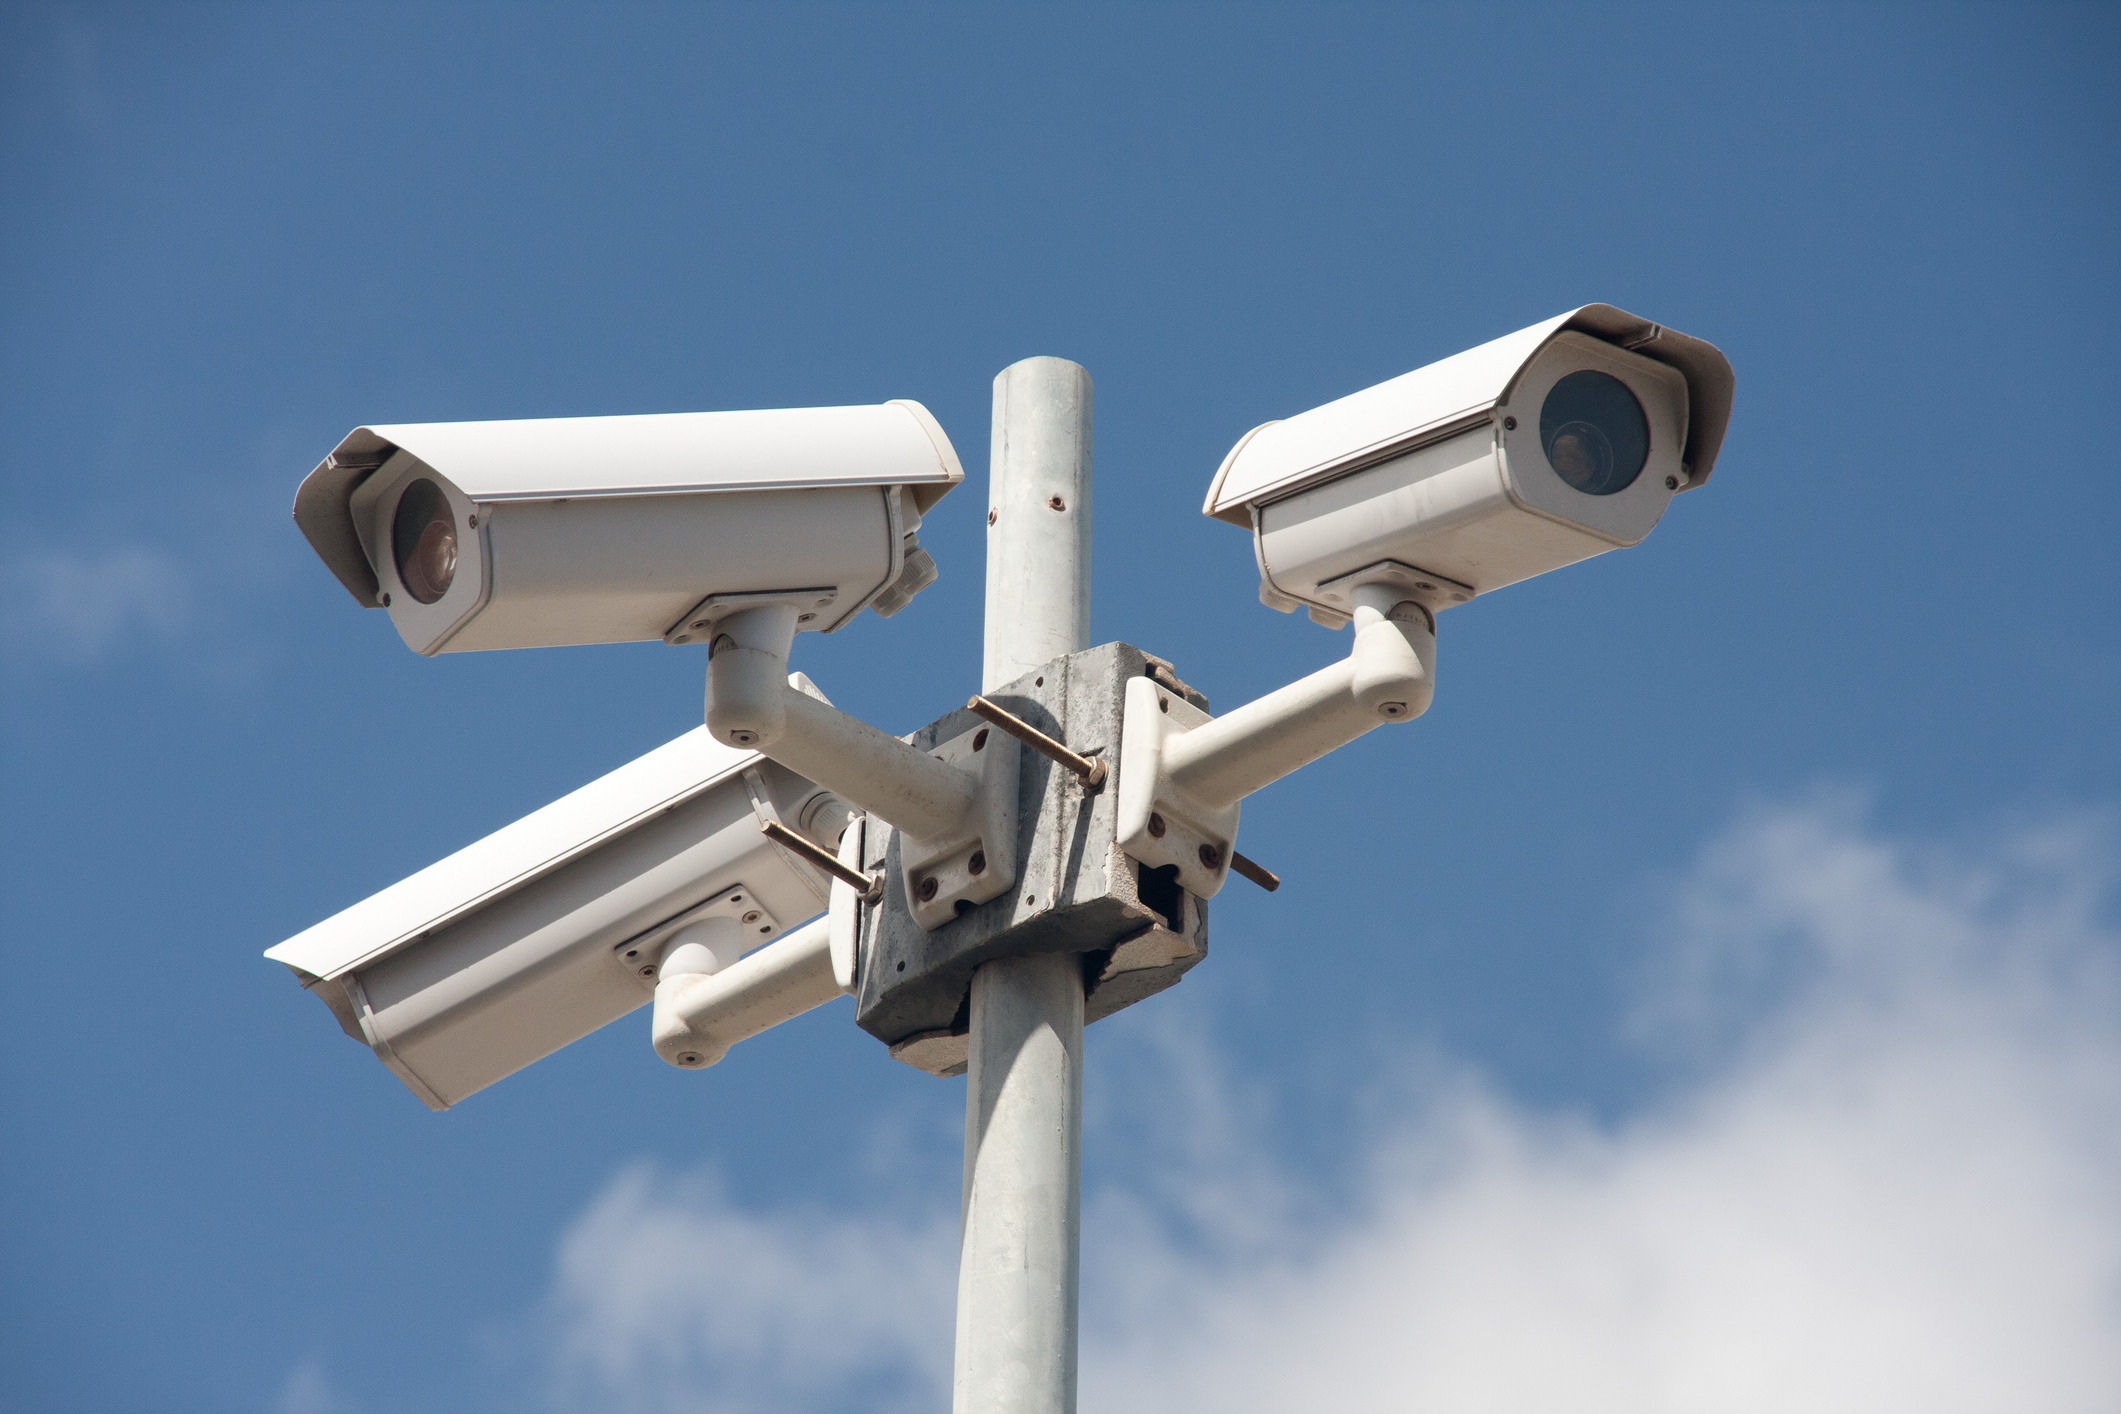CC Camera: (251, 683, 861, 1126), (1196, 294, 1755, 635), (281, 387, 959, 659)
